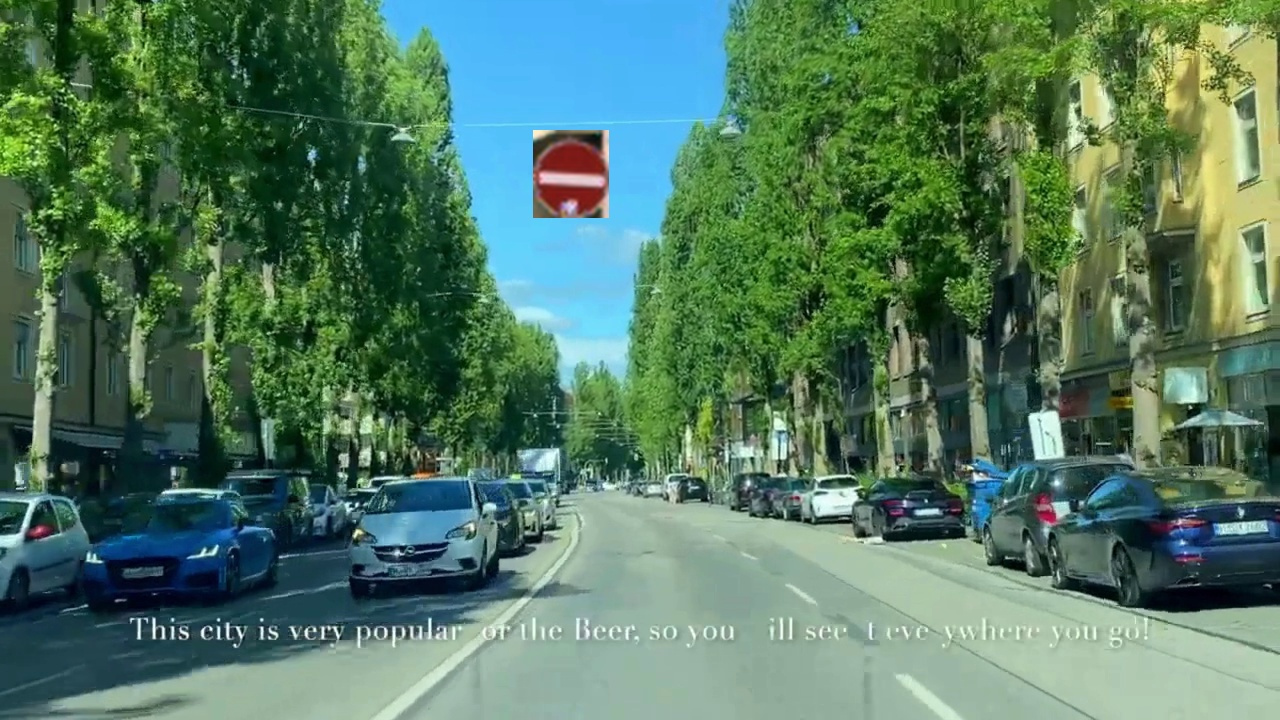No entry: (533, 130, 609, 218)
